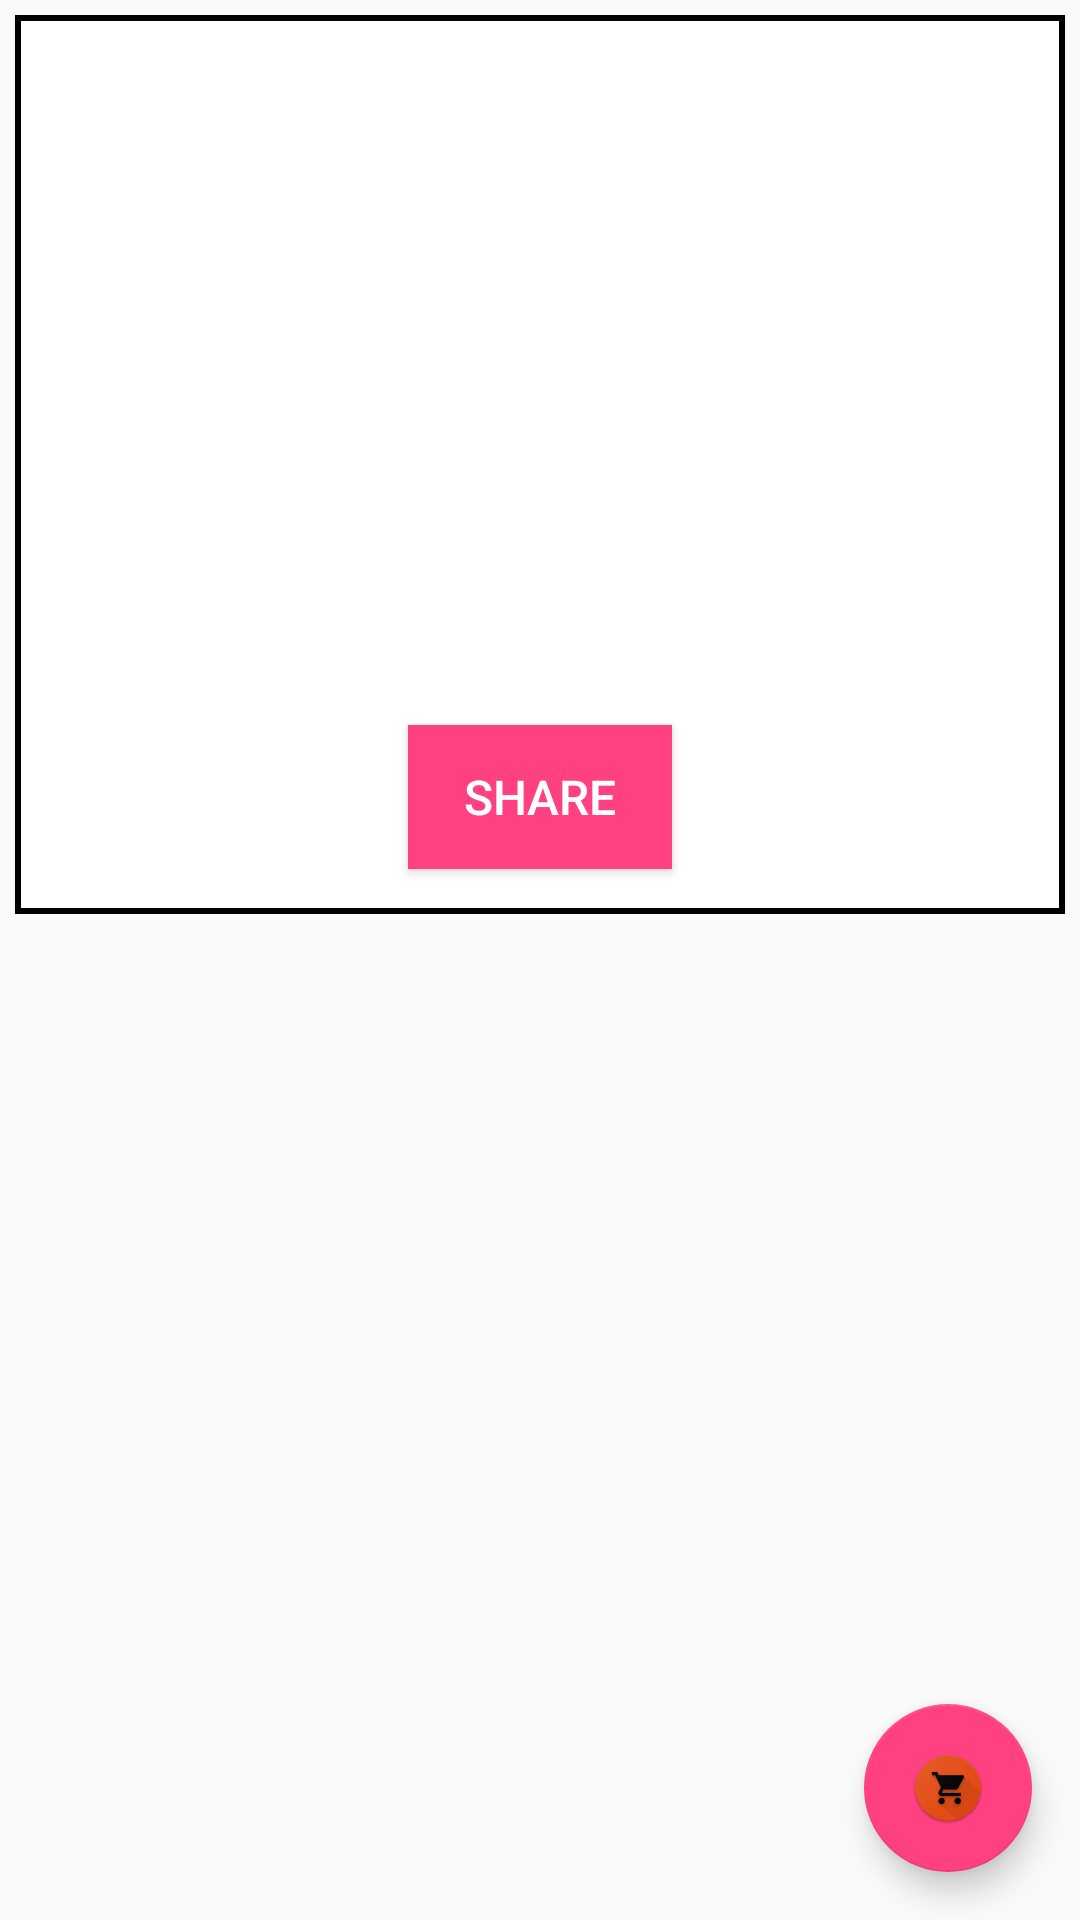

Where icons sit on this 1080px×1920px app screen, as detection(x1, y1, x2, y2):
cart: detection(864, 1704, 1032, 1872)
